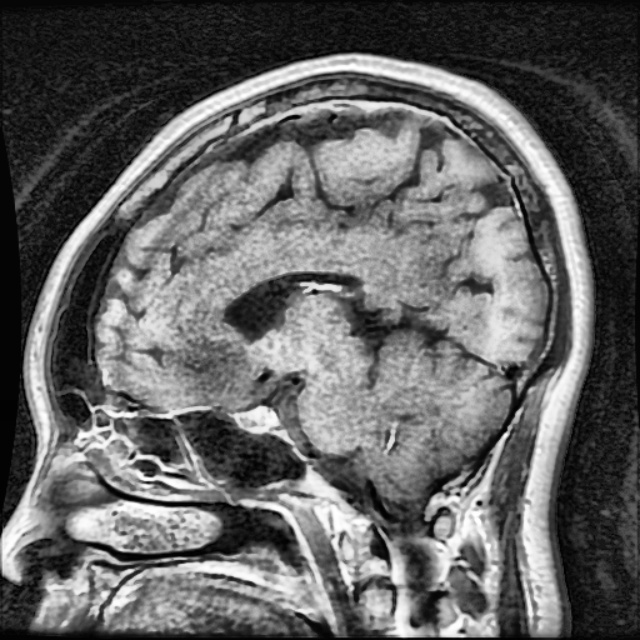Pituitary: (235, 407, 277, 433)
